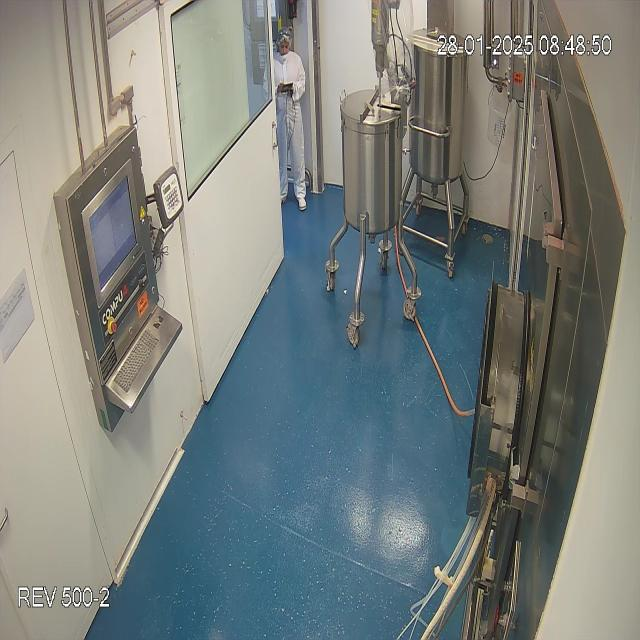bota: (292, 188, 315, 214)
pessoa: (269, 23, 309, 215)
touca: (276, 24, 292, 57)
